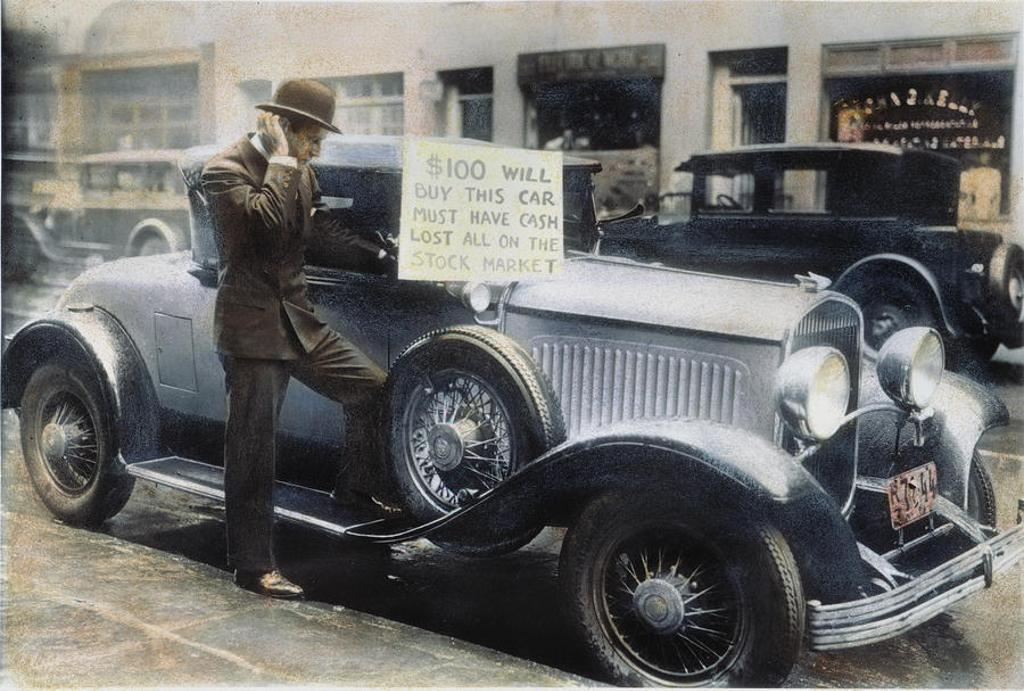face: (280, 116, 328, 167)
